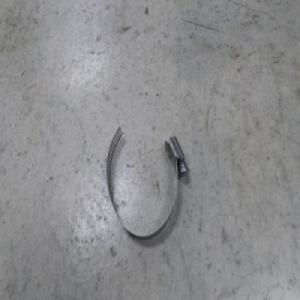AdjustableClamp: (106, 125, 188, 239)
